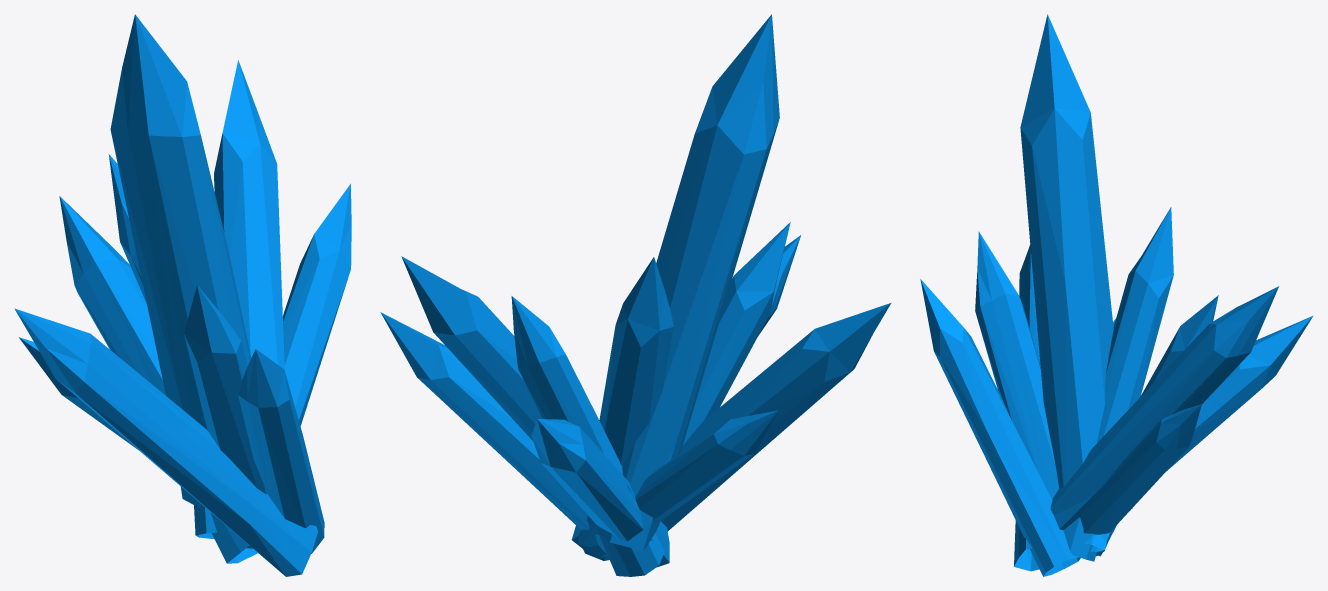
The model's file is crystal2.fbx.
3 renders of one model, left to right at view 1: azimuth 30°, elevation 25°; view 2: azimuth 150°, elevation 25°; view 3: azimuth 270°, elevation 25°, orthographic. The views are drawn at different scales.
Parts seen in each view (by area): view 1: Crystal_1; view 2: Crystal_1; view 3: Crystal_1.
Boxes of the visible parts, x1,y1,x2,y2 form: Crystal_1: [15, 14, 351, 576]; Crystal_1: [380, 14, 891, 576]; Crystal_1: [920, 14, 1312, 576].
Bounding box in the file's own units: 1914 × 2519 × 1799.
